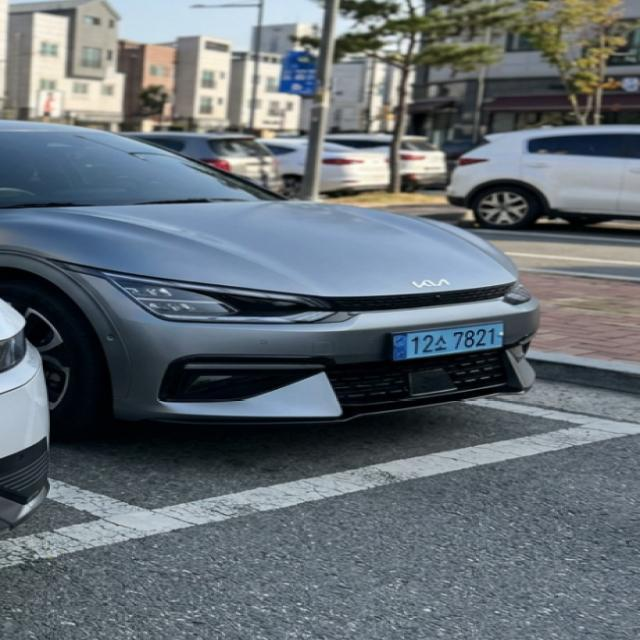car: (381, 318, 530, 367)
carev: (389, 330, 411, 364), (492, 321, 510, 354)
